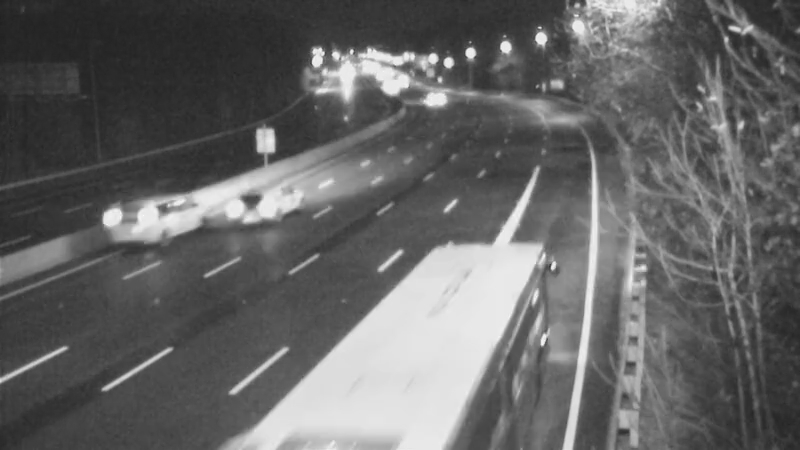vehicle: (372, 294, 482, 404), (219, 159, 299, 239), (98, 183, 178, 263), (411, 72, 461, 122)
